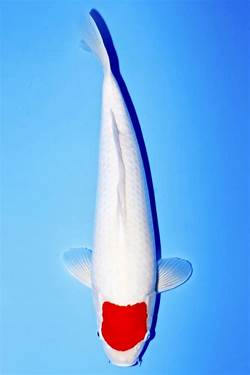sun: (60, 10, 192, 368)
